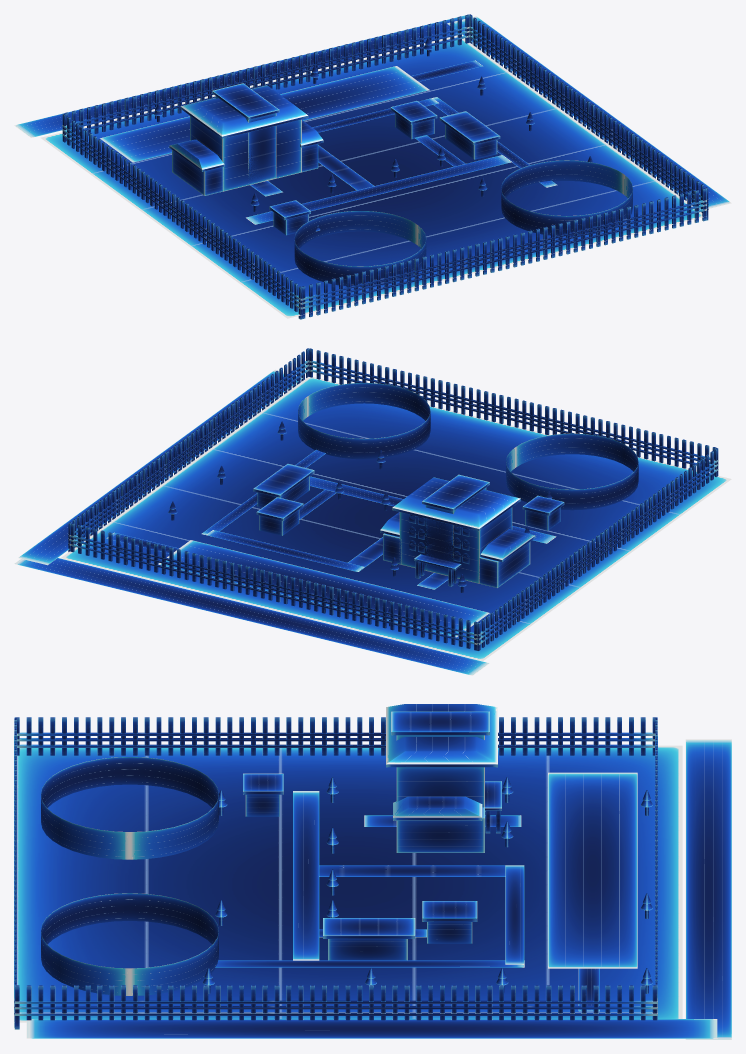
The picture shows the model from 3 angles, top to bottom: view 1: azimuth 30°, elevation 25°; view 2: azimuth 150°, elevation 25°; view 3: azimuth 270°, elevation 25°; orthographic projection. The views are drawn at different scales.
Parts seen in each view (by area): view 1: 空白.8; view 2: 空白.8; view 3: 空白.8.
Part boxes in pixels (bbox=[...]): 空白.8: bbox=[14, 14, 731, 319]; 空白.8: bbox=[14, 348, 731, 675]; 空白.8: bbox=[14, 704, 731, 1039].
Size of the model in its own units: 185 by 30.43 by 186.
1 material, 1 textured.
